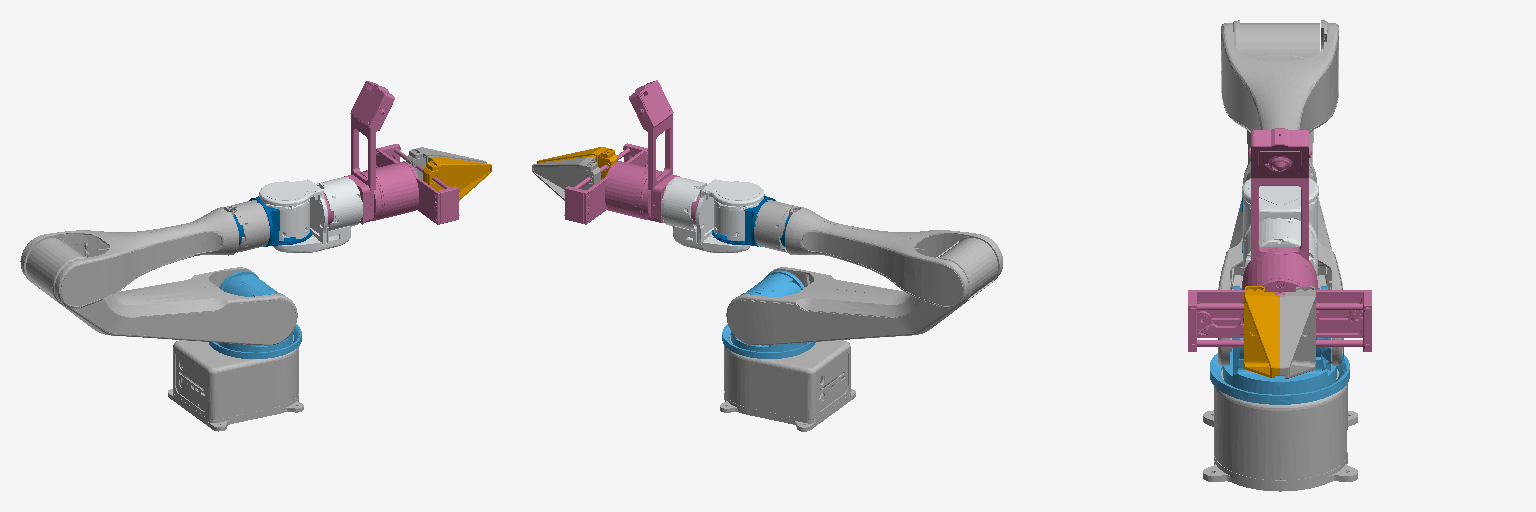
The robot description file, URDF, robot "airbot_play_v3_gripper":
<?xml version="1.0" ?>
<!-- =================================================================================== -->
<!-- |    This document was autogenerated by xacro from robot.xacro                    | -->
<!-- |    EDITING THIS FILE BY HAND IS NOT RECOMMENDED                                 | -->
<!-- =================================================================================== -->
<robot name="airbot_play_v3_gripper">
  <link name="base_link">
    <inertial>
      <origin rpy="0 0 0" xyz="-0.010729 -0.00017015 0.041712"/>
      <mass value="0.77705"/>
      <inertia ixx="0.0008454" ixy="-7.5E-06" ixz="2.06E-05" iyy="0.0011821" iyz="-6.4E-06" izz="0.0012443"/>
    </inertial>
    <visual>
      <origin rpy="0 0 0" xyz="0 0 0"/>
      <geometry>
        <mesh filename="package://airbot_play_description/meshes/arm_base.obj"/>
      </geometry>
      <material name="">
        <color rgba="0.75294 0.75294 0.75294 1"/>
      </material>
    </visual>
    <collision>
      <origin rpy="0 0 0" xyz="0 0 0"/>
      <geometry>
        <mesh filename="package://airbot_play_description/meshes/arm_base.obj"/>
      </geometry>
    </collision>
  </link>
  <link name="link1">
    <inertial>
      <origin rpy="0 0 0" xyz="7.9126E-05 -0.002527 -0.0041359"/>
      <mass value="0.54639"/>
      <inertia ixx="0.0003462" ixy="0" ixz="-1.4E-06" iyy="0.0002863" iyz="-1.1E-06" izz="0.0003255"/>
    </inertial>
    <visual>
      <geometry>
        <mesh filename="package://airbot_play_description/meshes/link1.obj"/>
      </geometry>
    </visual>
    <collision>
      <origin rpy="0 0 0" xyz="0 0 0"/>
      <geometry>
        <mesh filename="package://airbot_play_description/meshes/link1.obj"/>
      </geometry>
    </collision>
  </link>
  <joint name="joint1" type="revolute">
    <origin rpy="0 0 0" xyz="0 0 0.1172"/>
    <parent link="base_link"/>
    <child link="link1"/>
    <axis xyz="0 0 1"/>
    <limit effort="18" lower="-3.14" upper="2.09" velocity="3.14"/>
  </joint>
  <link name="link2">
    <inertial>
      <origin rpy="0 0 0" xyz="0.22493 0.0047721 0.008023"/>
      <mass value="0.64621"/>
      <inertia ixx="0.0004901" ixy="0.0005229" ixz="-0.0002434" iyy="0.0050391" iyz="-2.95E-05" izz="0.0051052"/>
    </inertial>
    <visual>
      <origin rpy="0 0 0" xyz="0 0 0"/>
      <geometry>
        <mesh filename="package://airbot_play_description/meshes/link2.obj"/>
      </geometry>
      <material name="">
        <color rgba="0.75294 0.75294 0.75294 1"/>
      </material>
    </visual>
    <collision>
      <origin rpy="0 0 0" xyz="0 0 0"/>
      <geometry>
        <mesh filename="package://airbot_play_description/meshes/link2.obj"/>
      </geometry>
    </collision>
  </link>
  <joint name="joint2" type="revolute">
    <origin rpy="1.5708 -2.7549 0" xyz="0 0 0"/>
    <parent link="link1"/>
    <child link="link2"/>
    <axis xyz="0 0 1"/>
    <limit effort="18" lower="-2.96" upper="0.17" velocity="3.14"/>
  </joint>
  <link name="link3">
    <inertial>
      <origin rpy="0 0 0" xyz="0.16813 -5.5576E-05 0.0031184"/>
      <mass value="0.26829"/>
      <inertia ixx="0.000245" ixy="-4E-07" ixz="-0.0001263" iyy="0.0031527" iyz="-1E-07" izz="0.0030895"/>
    </inertial>
    <visual>
      <origin rpy="0 0 0" xyz="0 0 0"/>
      <geometry>
        <mesh filename="package://airbot_play_description/meshes/link3.obj"/>
      </geometry>
      <material name="">
        <color rgba="0.75294 0.75294 0.75294 1"/>
      </material>
    </visual>
    <collision>
      <origin rpy="0 0 0" xyz="0 0 0"/>
      <geometry>
        <mesh filename="package://airbot_play_description/meshes/link3.obj"/>
      </geometry>
    </collision>
  </link>
  <joint name="joint3" type="revolute">
    <origin rpy="0 0 -2.7549" xyz="0.27009 0 0"/>
    <parent link="link2"/>
    <child link="link3"/>
    <axis xyz="0 0 1"/>
    <limit effort="18" lower="-0.087" upper="3.14" velocity="3.14"/>
  </joint>
  <link name="link4">
    <inertial>
      <origin rpy="0 0 0" xyz="5.2436E-06 0.00040412 -0.03228"/>
      <mass value="0.34876"/>
      <inertia ixx="0.0004235" ixy="0" ixz="4.7E-06" iyy="0.000412" iyz="-1E-07" izz="0.0001269"/>
    </inertial>
    <visual>
      <geometry>
        <mesh filename="package://airbot_play_description/meshes/link4.obj"/>
      </geometry>
    </visual>
    <collision>
      <geometry>
        <mesh filename="package://airbot_play_description/meshes/link4.obj"/>
      </geometry>
    </collision>
  </link>
  <joint name="joint4" type="revolute">
    <origin rpy="3.1416 -1.5708 0" xyz="0.29015 0 0"/>
    <parent link="link3"/>
    <child link="link4"/>
    <axis xyz="0 0 1"/>
    <limit effort="3" lower="-2.96" upper="2.96" velocity="6.28"/>
  </joint>
  <link name="link5">
    <inertial>
      <origin rpy="0 0 0" xyz="8.3328E-06 0.026148 0.002525"/>
      <mass value="0.36132"/>
      <inertia ixx="0.0001825" ixy="0" ixz="-3.29E-05" iyy="0.0004677" iyz="0" izz="0.0004286"/>
    </inertial>
    <visual>
      <origin rpy="0 0 0" xyz="0 0 0"/>
      <geometry>
        <mesh filename="package://airbot_play_description/meshes/link5.obj"/>
      </geometry>
      <material name="">
        <color rgba="0.89804 0.91765 0.92941 1"/>
      </material>
    </visual>
    <collision>
      <origin rpy="0 0 0" xyz="0 0 0"/>
      <geometry>
        <mesh filename="package://airbot_play_description/meshes/link5.obj"/>
      </geometry>
    </collision>
  </link>
  <joint name="joint5" type="revolute">
    <origin rpy="1.5708 0 0" xyz="0 0 0"/>
    <parent link="link4"/>
    <child link="link5"/>
    <axis xyz="0 0 1"/>
    <limit effort="3" lower="-1.74" upper="1.74" velocity="6.28"/>
  </joint>
  <link name="link6">
    <inertial>
      <origin rpy="0 0 0" xyz="-0.0047053 7.3857E-05 -0.12293"/>
      <mass value="0.53855"/>
      <inertia ixx="5E-05" ixy="0" ixz="0" iyy="5E-05" iyz="0" izz="3.85E-05"/>
    </inertial>
    <visual>
      <geometry>
        <mesh filename="package://airbot_play_description/meshes/link6.obj"/>
      </geometry>
    </visual>
    <collision>
      <geometry>
        <mesh filename="package://airbot_play_description/meshes/link6.obj"/>
      </geometry>
    </collision>
  </link>
  <joint name="joint6" type="revolute">
    <origin rpy="-1.5708 1.5708 0" xyz="0 0.23645 0"/>
    <parent link="link5"/>
    <child link="link6"/>
    <axis xyz="0 0 1"/>
    <limit effort="3" lower="-3.14" upper="3.14" velocity="6.28"/>
  </joint>
  <link name="left">
    <inertial>
      <origin rpy="0 0 0" xyz="-0.049039 -0.0096764 0.00038868"/>
      <mass value="0.061803"/>
      <inertia ixx="1.8946E-05" ixy="-1.3168E-06" ixz="-6.5528E-07" iyy="2.7277E-05" iyz="-2.0801E-07" izz="1.1981E-05"/>
    </inertial>
    <visual>
      <geometry>
        <mesh filename="package://airbot_play_description/meshes/gripper_left.obj"/>
      </geometry>
    </visual>
    <collision>
      <origin rpy="0 0 0" xyz="0 0 0"/>
      <geometry>
        <mesh filename="package://airbot_play_description/meshes/gripper_left.obj"/>
      </geometry>
    </collision>
  </link>
  <joint name="endleft" type="prismatic">
    <origin rpy="0 -1.5708 0" xyz="0 0 0"/>
    <parent link="link6"/>
    <child link="left"/>
    <axis xyz="0 1 0"/>
    <limit effort="0" lower="0" upper="0.04" velocity="0"/>
  </joint>
  <link name="right">
    <inertial>
      <origin xyz="-0.048742 0.0096369 0.00044322"/>
      <mass value="0.0626"/>
      <inertia ixx="1.915E-05" ixy="1.343E-06" ixz="-6.8259E-07" iyy="2.7722E-05" iyz="2.0748E-07" izz="1.2248E-05"/>
    </inertial>
    <visual>
      <geometry>
        <mesh filename="package://airbot_play_description/meshes/gripper_right.obj"/>
      </geometry>
    </visual>
    <collision>
      <geometry>
        <mesh filename="package://airbot_play_description/meshes/gripper_right.obj"/>
      </geometry>
    </collision>
  </link>
  <joint name="endright" type="prismatic">
    <origin rpy="0 -1.5708 0"/>
    <parent link="link6"/>
    <child link="right"/>
    <axis xyz="0 -1 0"/>
    <limit effort="0" lower="0" upper="0.04" velocity="0"/>
  </joint>
  <link name="custom_end_link">
    <inertial>
      <origin rpy="0 0 0" xyz="0 0 0"/>
      <mass value="1E-15"/>
      <inertia ixx="1E-11" ixy="1E-15" ixz="1E-15" iyy="1E-11" iyz="1E-15" izz="1E-11"/>
    </inertial>
  </link>
  <joint name="joint_custom_end" type="fixed">
    <origin rpy="0 -1.5708 0" xyz="0 0 0.02"/>
    <parent link="link6"/>
    <child link="custom_end_link"/>
  </joint>
  <link name="camera_link">
  </link>
  <joint name="camera_joint" type="fixed">
    <origin rpy="0 -1.046 0" xyz="-0.105 0 -0.111"/>
    <parent link="link6"/>
    <child link="camera_link"/>
  </joint>
</robot>

--- Facts derived from the render (not from the file) ---
The picture shows the robot from 3 angles, left to right: view 1: azimuth 30°, elevation 25°; view 2: azimuth 150°, elevation 25°; view 3: azimuth 270°, elevation 25°; orthographic projection.
Model airbot_play_v3_gripper with 11 links and 10 joints (6 revolute, 2 prismatic, 2 fixed), rooted at base_link, posed all joints at 0.
Visible links, largest first — view 1: link2, link3, base_link, link6, link5, link1, right, link4, left; view 2: link2, link3, base_link, link6, link5, link1, left, right, link4; view 3: link6, base_link, link3, link2, link1, link5, right, left.
Link boxes in pixels (<box>): link2: <box>23,235,297,345</box>; link3: <box>20,200,269,308</box>; base_link: <box>168,335,303,431</box>; link6: <box>324,81,459,224</box>; link5: <box>259,177,362,252</box>; link1: <box>209,270,301,358</box>; right: <box>423,157,491,200</box>; link4: <box>233,196,311,246</box>; left: <box>406,147,486,179</box>; link2: <box>726,235,1000,345</box>; link3: <box>754,200,1002,308</box>; base_link: <box>720,335,855,431</box>; link6: <box>564,80,699,224</box>; link5: <box>661,177,764,252</box>; link1: <box>722,270,815,358</box>; left: <box>532,157,600,200</box>; right: <box>537,147,617,179</box>; link4: <box>712,196,789,246</box>; link6: <box>1188,128,1371,351</box>; base_link: <box>1203,338,1357,491</box>; link3: <box>1221,23,1338,183</box>; link2: <box>1218,20,1343,365</box>; link1: <box>1210,286,1349,404</box>; link5: <box>1242,178,1318,275</box>; right: <box>1244,286,1279,377</box>; left: <box>1280,286,1315,378</box>.
Bounding box of the posed robot: 0.5822 × 0.138 × 0.3494 m (x, y, z).
Meshes: 9 distinct files referenced, 9 mesh visuals loaded (9 OBJ).